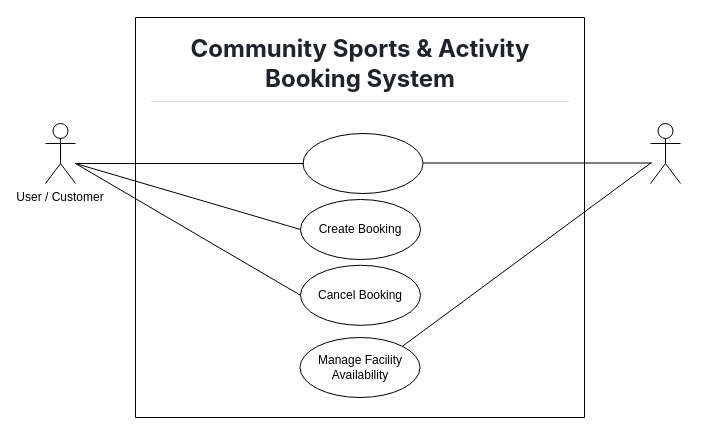
The diagram is 719 pixels wide and 435 high, and some of its shapes have lost their labels. Each missing label, with the centre of its shape:
Booking Staff: pixel 665 153
View Facility Availability: pixel 362 163
